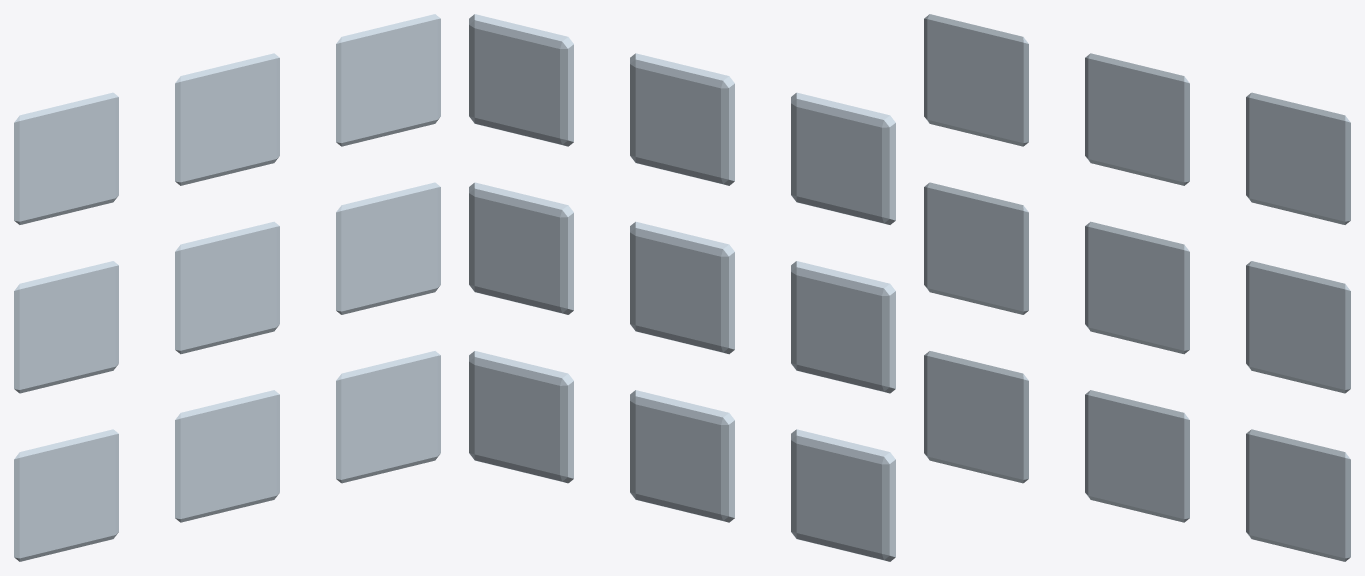
File: Settings_3D_Icon_02.fbx
3 views of the same model, side by side, from view 1: azimuth 30°, elevation 25°; view 2: azimuth 150°, elevation 25°; view 3: azimuth 330°, elevation 25° (orthographic).
Visible parts, largest first — view 1: Settings_3D_Icon_02; view 2: Settings_3D_Icon_02; view 3: Settings_3D_Icon_02.
Part boxes in pixels (x1=…): Settings_3D_Icon_02: x1=14, y1=14, x2=440, y2=561; Settings_3D_Icon_02: x1=469, y1=14, x2=895, y2=561; Settings_3D_Icon_02: x1=924, y1=14, x2=1350, y2=561.
Size of the model in its own units: 94.34 by 94.34 by 2.02.
